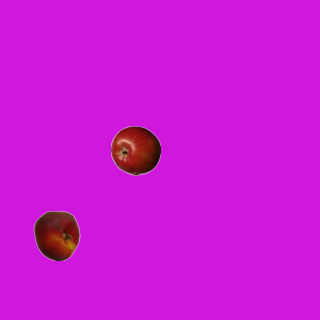Apple Braeburn: (110, 125, 160, 175)
Nectarine Flat: (31, 210, 81, 260)
